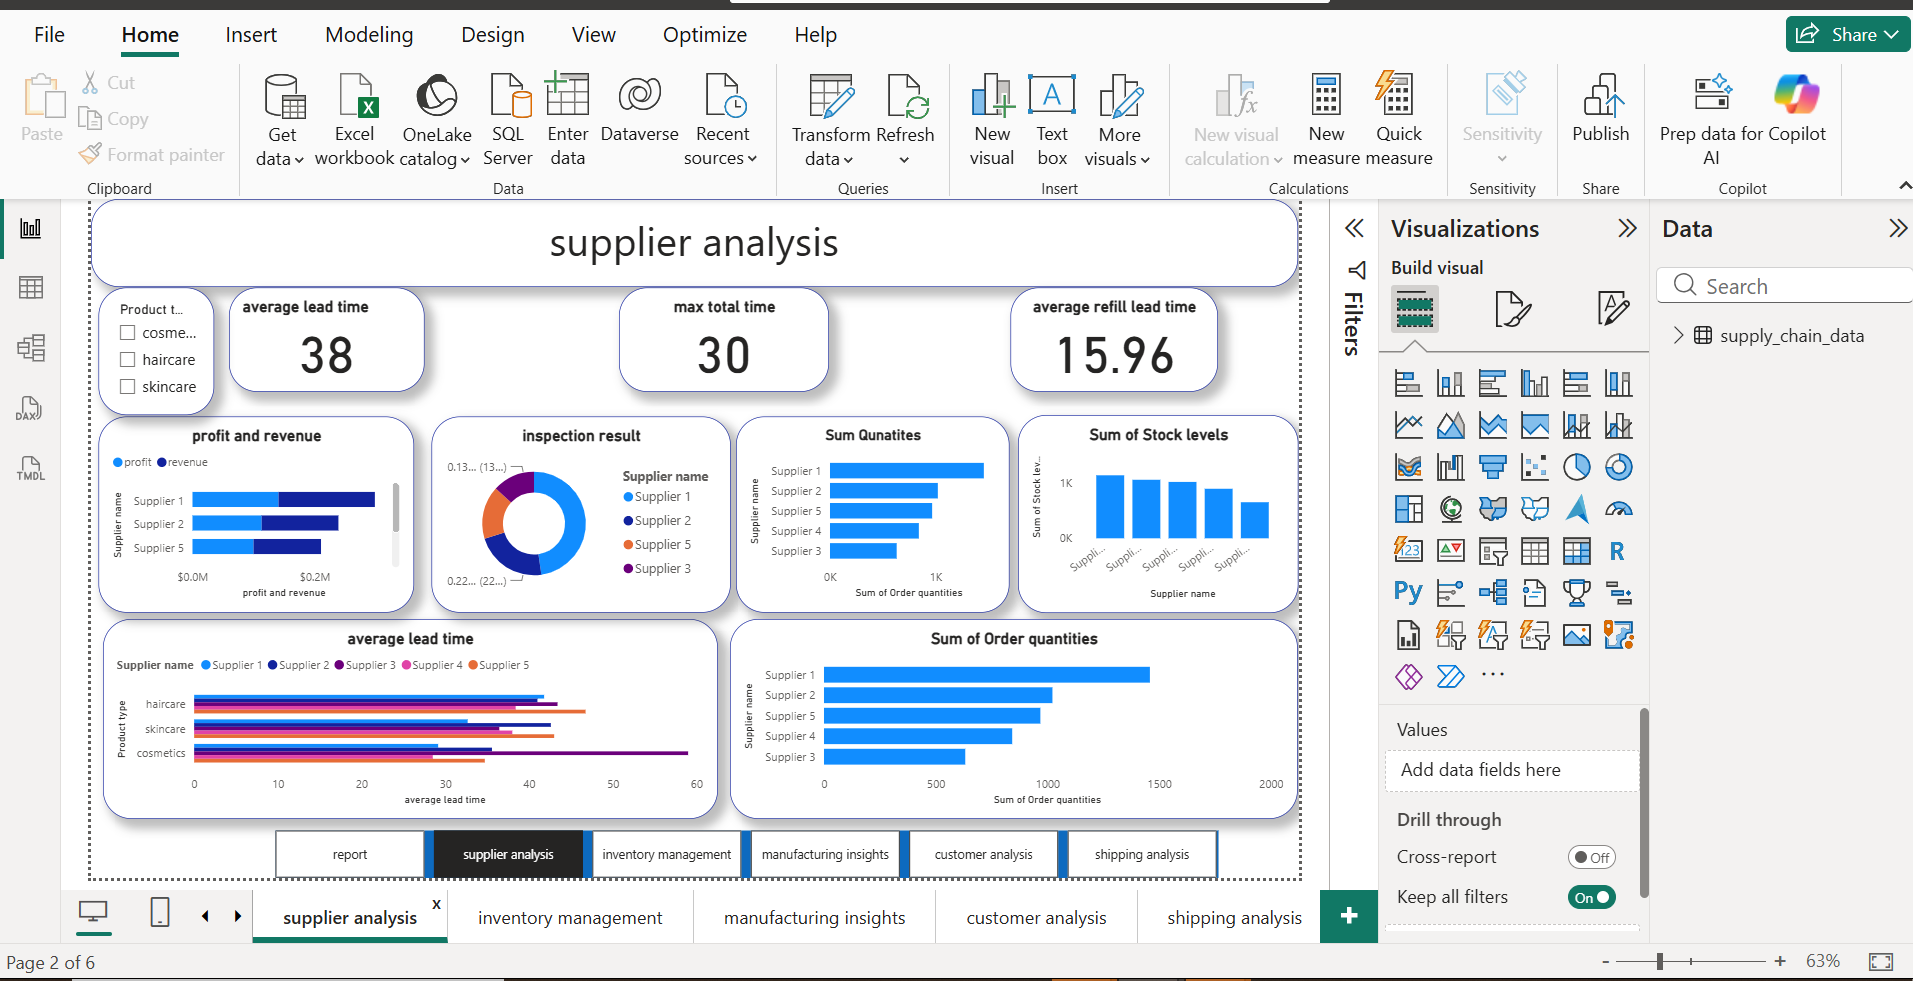

The dashboard page shown, as its layout file describes it:
{"tool":"powerbi","page":{"name":"supplier analysis","canvas":[1280,720],"ordinal":1},"visuals":[{"type":"textbox","box":[0,0,1280,93.4],"z":0},{"type":"card","title":"average lead time","fields":{"Values":["supply_chain_data.average lead time"]},"box":[146.9,93.4,207.2,110.9],"z":1000},{"type":"card","title":"max total time","fields":{"Values":["supply_chain_data.max refill lead time"]},"box":[559.3,93.4,222.7,110.9],"z":2000},{"type":"card","title":"average refill lead time","fields":{"Values":["supply_chain_data.average refill lead time"]},"box":[975.6,93.4,219.8,110.9],"z":3000},{"type":"clusteredBarChart","title":"average lead time","fields":{"Category":["supply_chain_data.Product type"],"Series":["supply_chain_data.Supplier name"],"Y":["supply_chain_data.average lead time"]},"box":[12.6,445.5,651.7,212],"z":4000},{"type":"donutChart","title":"inspection result ","fields":{"Category":["supply_chain_data.Supplier name"],"Y":["supply_chain_data.inspection result"]},"box":[360.9,230.5,317.1,208.1],"z":5000},{"type":"barChart","title":"Sum Qunatites","fields":{"Category":["supply_chain_data.Supplier name"],"Y":["Sum(supply_chain_data.Order quantities)"]},"box":[684.7,230.5,289.8,208.1],"z":6000},{"type":"columnChart","title":"Sum of Stock levels ","fields":{"Category":["supply_chain_data.Supplier name"],"Y":["Sum(supply_chain_data.Stock levels)"]},"box":[982.4,228.6,297.6,210.1],"z":7000},{"type":"barChart","title":"profit and revenue","fields":{"Category":["supply_chain_data.Supplier name"],"Y":["supply_chain_data.profit","supply_chain_data.revenue"]},"box":[7.8,230.5,334.6,208.1],"z":8000},{"type":"barChart","title":"Sum of Order quantities ","fields":{"Category":["supply_chain_data.Supplier name"],"Y":["Sum(supply_chain_data.Order quantities)"]},"box":[677.9,445.5,602.1,212],"z":9000},{"type":"slicer","fields":{"Values":["supply_chain_data.Product type"]},"box":[7.8,93.4,122.6,135.2],"z":10000},{"type":"pageNavigator","box":[195.5,669.2,999.9,50.6],"z":11000}]}

Visuals, with their boxes on the page's 1280x720 design canvas (x1, y1, x2, y2). These are canvas units, not pixel positions in the 1913x981 screenshot, which may show the page scaled, cropped or inside an application window:
textbox: bbox(0, 0, 1280, 93)
"average lead time" card: bbox(147, 93, 354, 204)
"max total time" card: bbox(559, 93, 782, 204)
"average refill lead time" card: bbox(976, 93, 1195, 204)
"average lead time" clusteredBarChart: bbox(13, 446, 664, 658)
"inspection result " donutChart: bbox(361, 230, 678, 439)
"Sum Qunatites" barChart: bbox(685, 230, 974, 439)
"Sum of Stock levels " columnChart: bbox(982, 229, 1280, 439)
"profit and revenue" barChart: bbox(8, 230, 342, 439)
"Sum of Order quantities " barChart: bbox(678, 446, 1280, 658)
slicer - supply_chain_data.Product type: bbox(8, 93, 130, 229)
pageNavigator: bbox(196, 669, 1195, 720)
